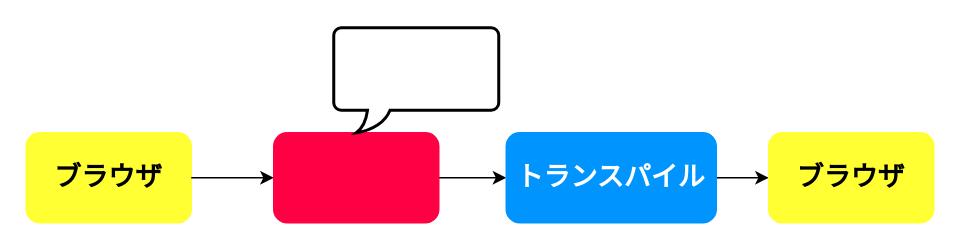
Image size: 960x249. Some labels were removed from this diagram. The centre of each missing label's shape, as x and y in pixels:
APIやDBに アクセス: pixel 416 80
tagファイル: pixel 355 177
